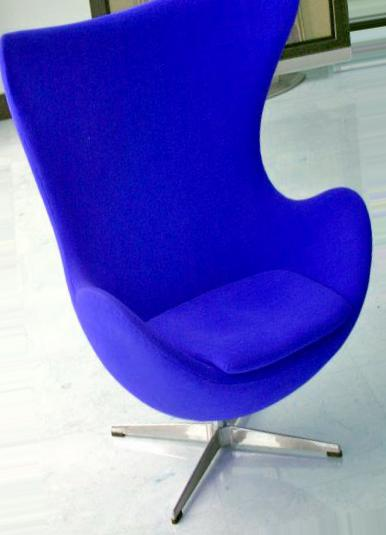chair: (1, 1, 373, 525)
